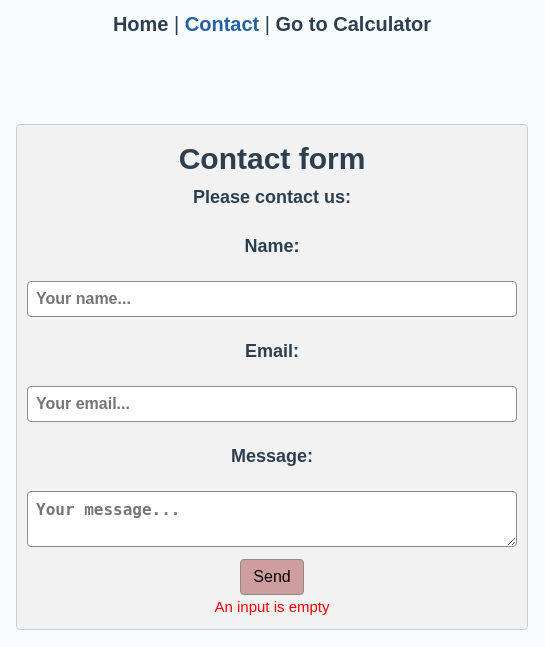
it: Testing that form cannot send due to various factors › visits the contact view and inputs name on the wrong format -> displays correct error
Expected: the heading "Contact form" is shown, [179, 142, 365, 175]
Type "lower case name" into the field with id "nameInput" at coordinates (272, 299), box [27, 281, 517, 317]
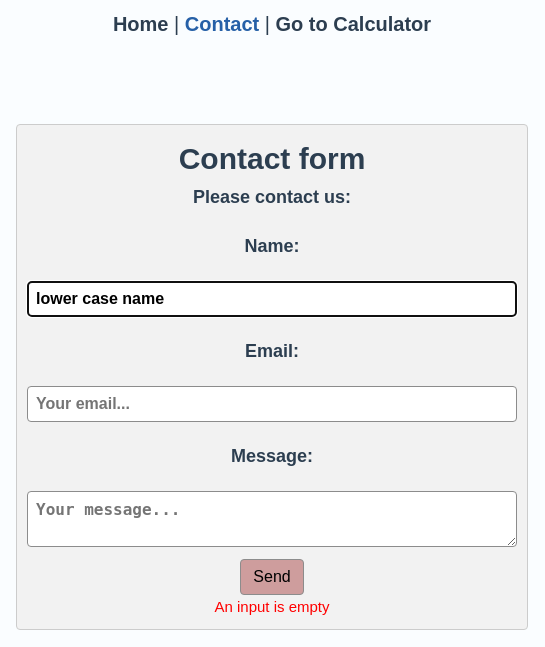
Type "example@email.no" into the field with id "emailInput" at coordinates (272, 404), box [27, 386, 517, 422]
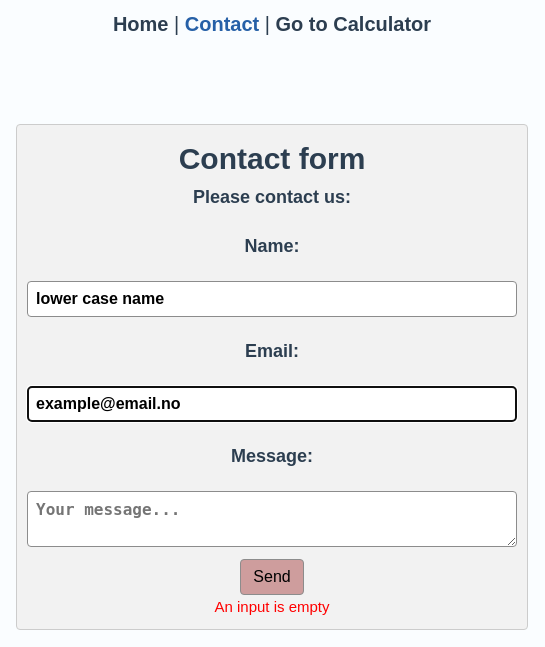
Type "Random message" into the text box with id "messageInput" at coordinates (272, 519), box [27, 491, 517, 547]
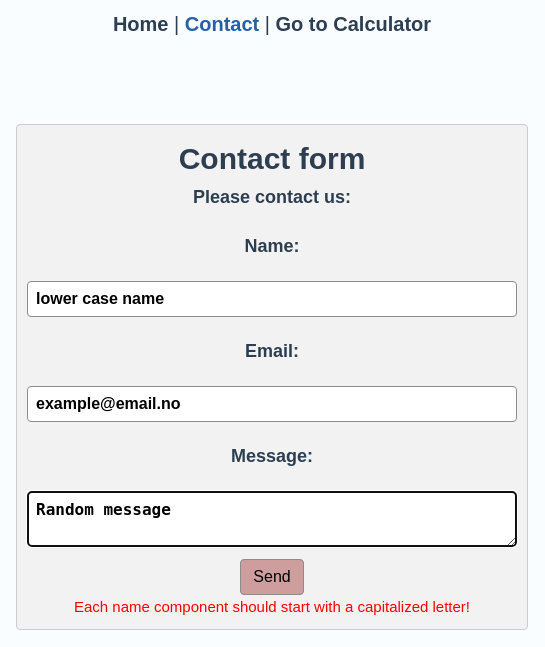
Now the text with id "excpMessage" reads "Each name component should start with a capitalized letter!", box [74, 598, 470, 615]
